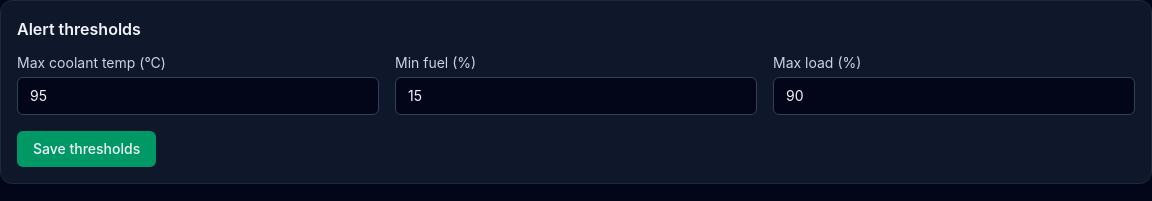
Test: ThresholdsForm › shows a message when the server rejects the save
Click the button "Save thresholds" at {"x": 87, "y": 149}, box [17,131,156,167]
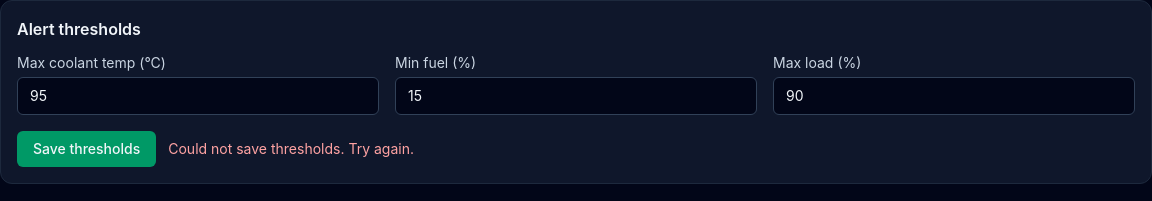
expect the text "Could not save thresholds. Try again." is shown: met, box [168,139,414,159]
